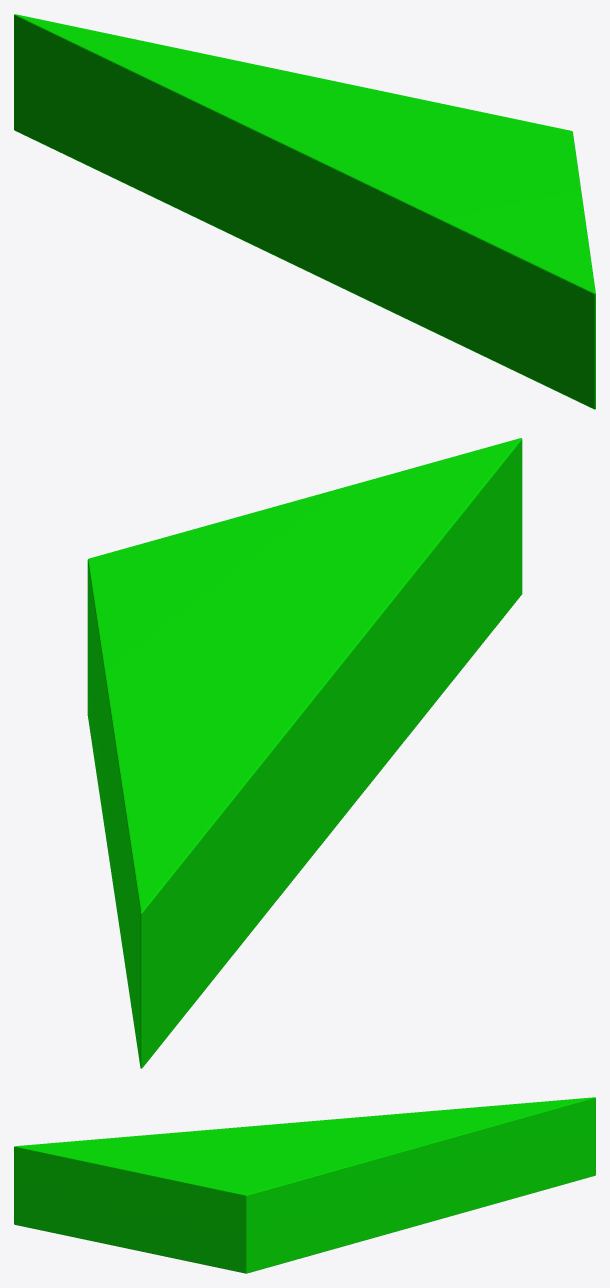
Rendered from Obstacle_02.fbx.
The picture shows the model from 3 angles, top to bottom: view 1: azimuth 30°, elevation 25°; view 2: azimuth 150°, elevation 25°; view 3: azimuth 270°, elevation 25°; orthographic projection. The views are drawn at different scales.
Visible parts, largest first — view 1: Obstacle_02; view 2: Obstacle_02; view 3: Obstacle_02.
Boxes of the visible parts, left/top/right/bottom form: Obstacle_02: left=14, top=14, right=595, bottom=409; Obstacle_02: left=87, top=438, right=522, bottom=1068; Obstacle_02: left=14, top=1097, right=595, bottom=1273.
Size of the model in its own units: 2.68 by 1 by 6.71.
